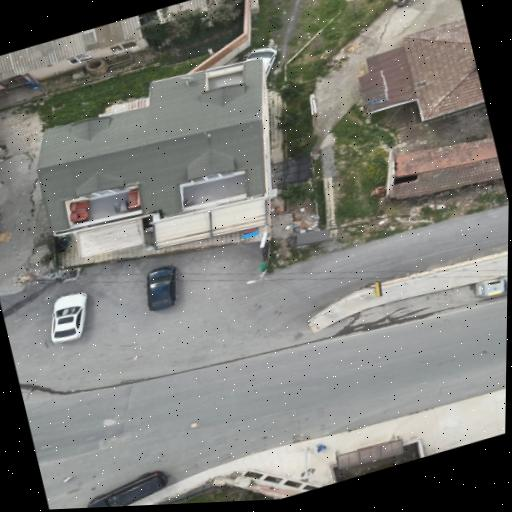car: (88, 472, 168, 507), (51, 293, 87, 342), (147, 266, 177, 311), (245, 47, 277, 77)
